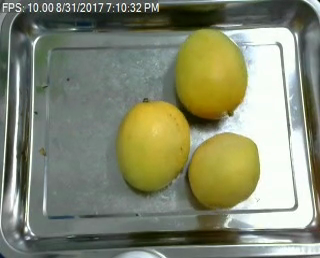Mango: (167, 25, 250, 126), (114, 94, 192, 196), (180, 123, 266, 214)
